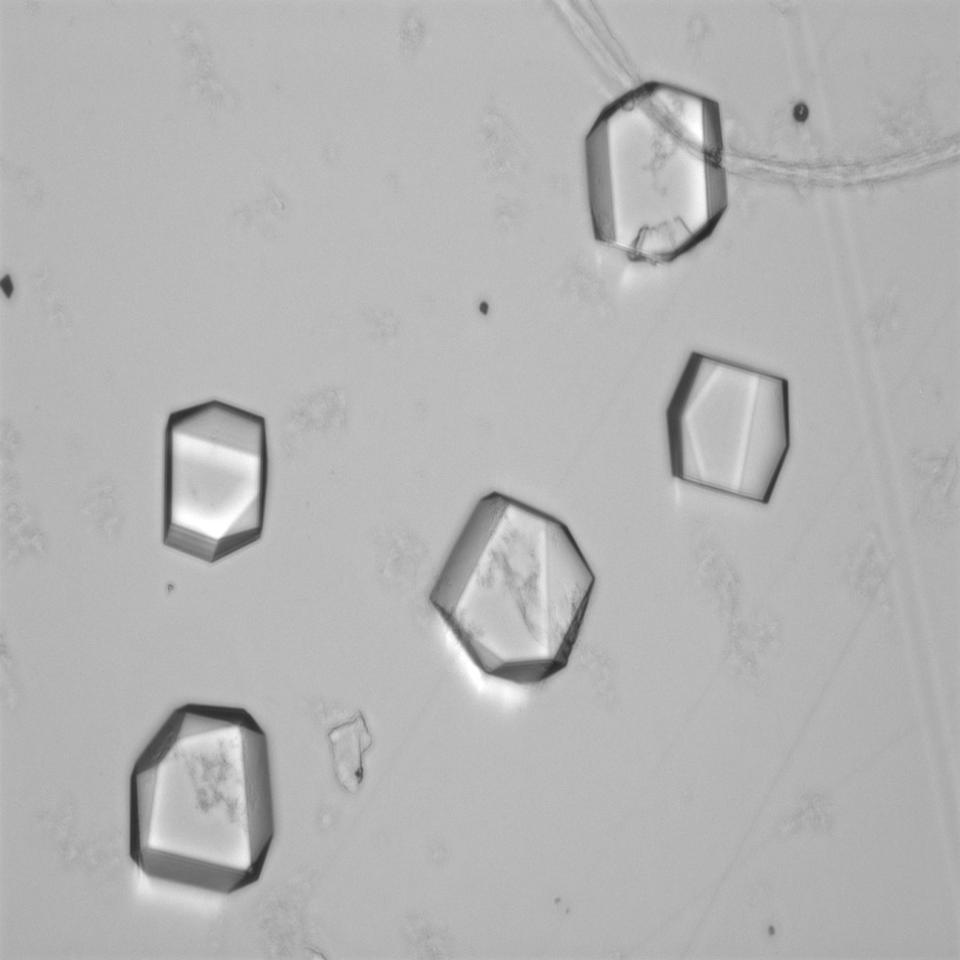crystal: (424, 481, 586, 692), (115, 686, 280, 890), (576, 64, 730, 272), (658, 344, 798, 506), (160, 396, 274, 564)
